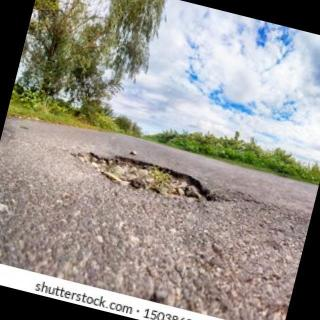pothole: (76, 152, 219, 202)
